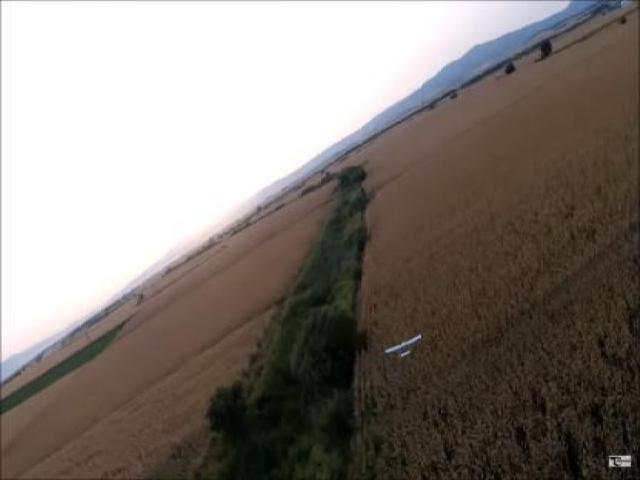uav: (383, 331, 425, 361)
